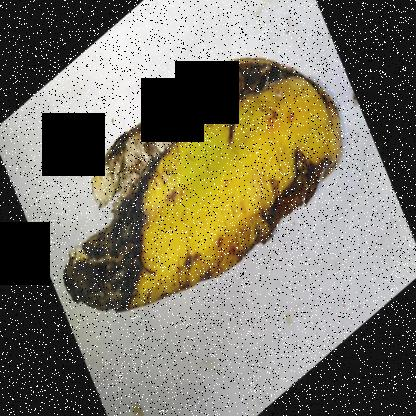rotten: (93, 39, 352, 202), (196, 134, 352, 300), (59, 145, 180, 326)
